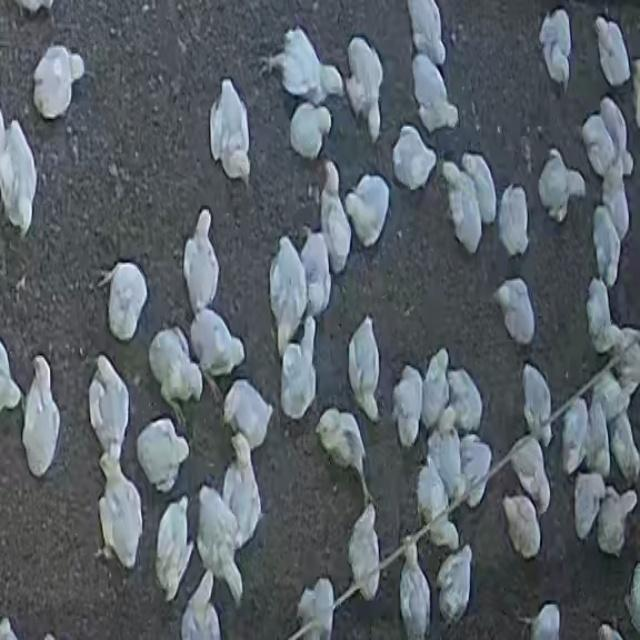chicken: (207, 78, 254, 187)
